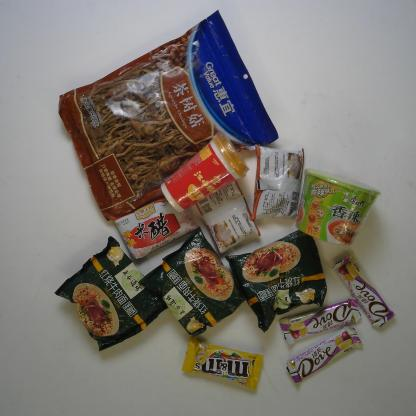Chocolate: (328, 249, 400, 332), (180, 332, 267, 392), (282, 324, 366, 384), (280, 296, 365, 346)
Dried Food: (55, 6, 285, 226)
Instant Drink: (154, 126, 256, 216)
Instant Noodles: (53, 233, 171, 356), (136, 227, 250, 339), (223, 229, 337, 336), (293, 165, 384, 251)
Seasoner: (107, 197, 206, 263), (190, 171, 262, 259), (249, 142, 310, 224)
